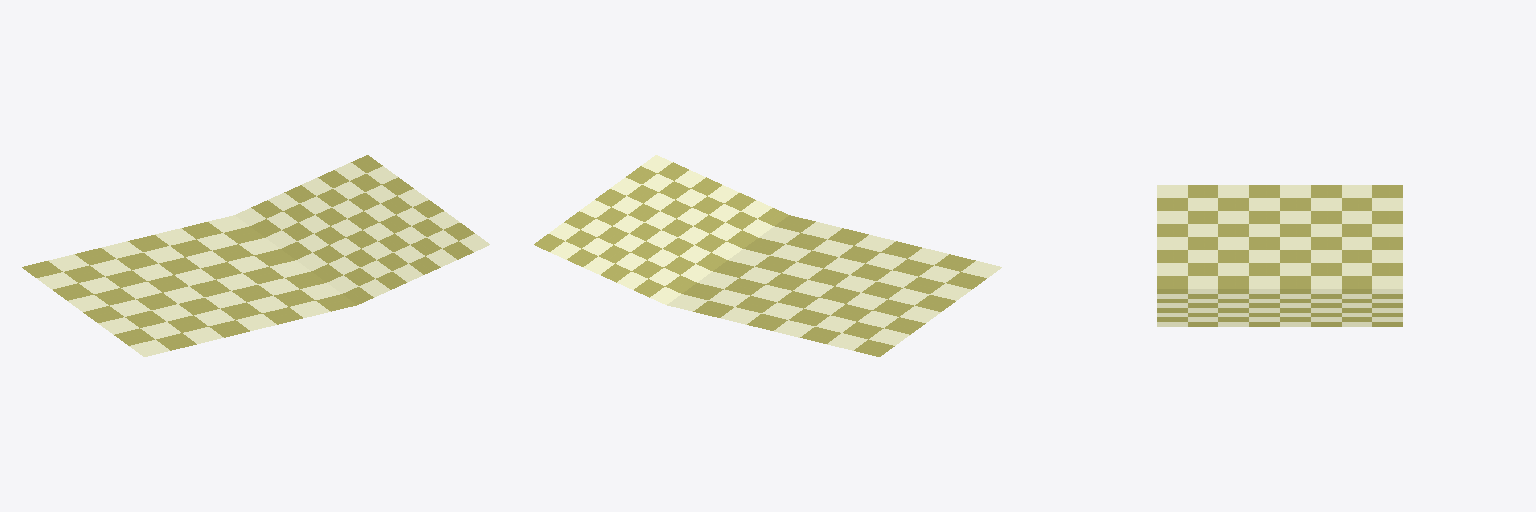
The picture shows the model from 3 angles: view 1: azimuth 30°, elevation 25°; view 2: azimuth 150°, elevation 25°; view 3: azimuth 270°, elevation 25°; orthographic projection.
Size of the model in its own units: 13 by 1 by 8.
1 materials, 1 textured.